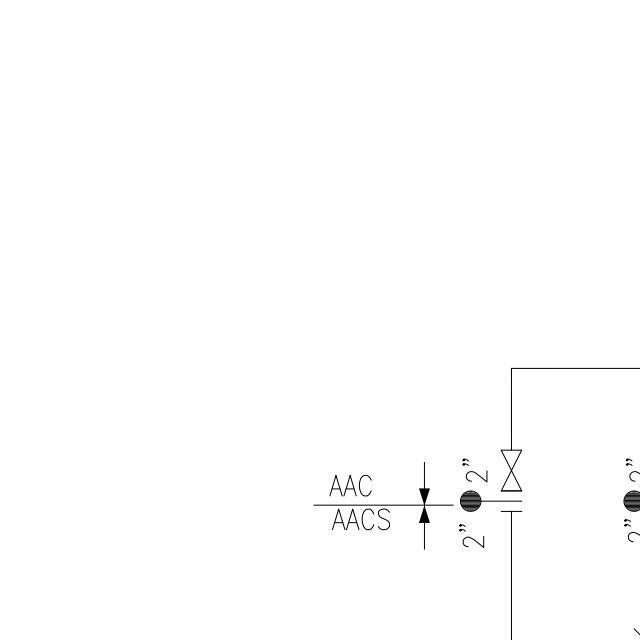GV: (496, 443, 525, 497)
